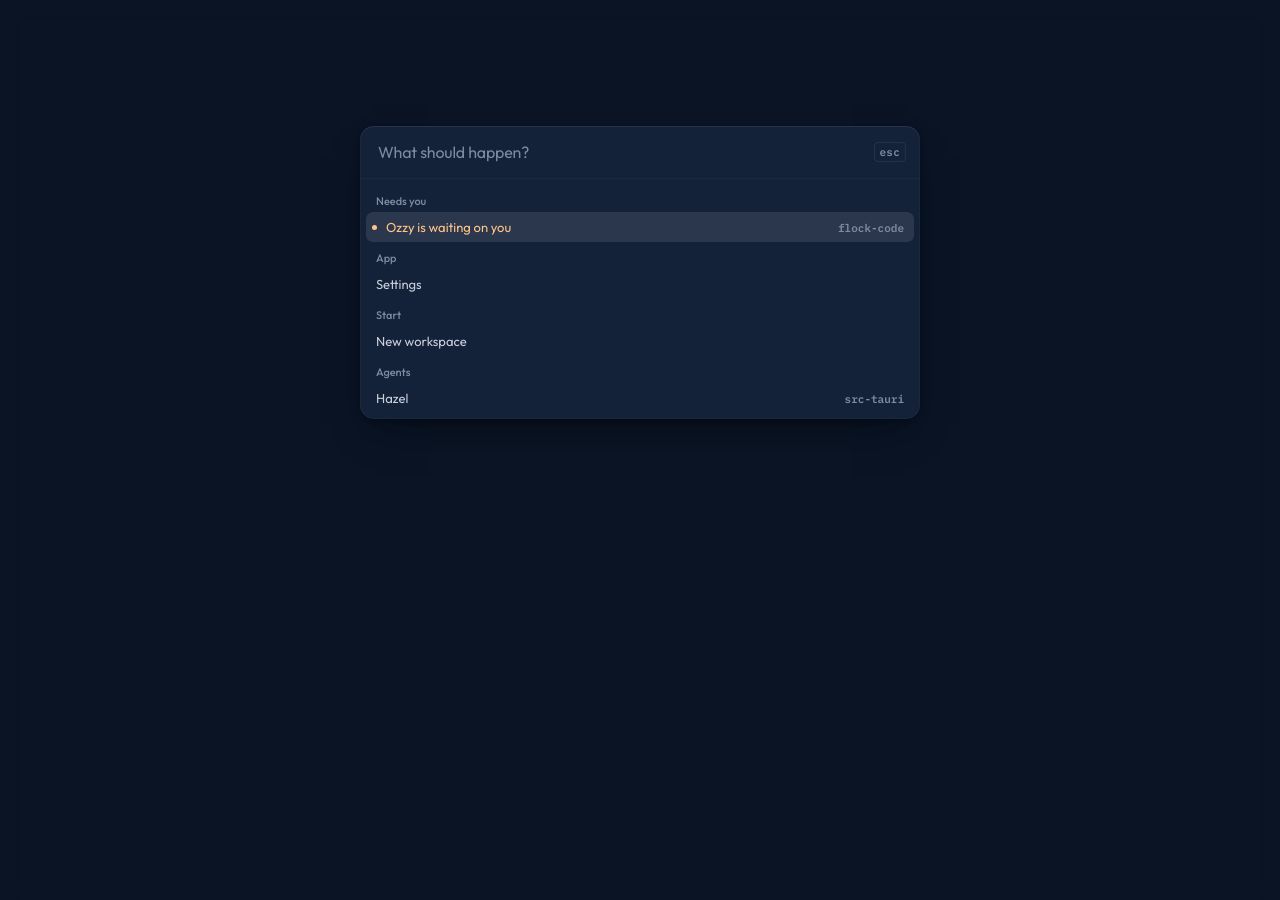
CommandBar prompt mode › states that the prompt is injected rather than submitted
Type "fix the resize test" into the field with placeholder "What should happen?" at {"x": 620, "y": 152}, box [376,130,864,174]
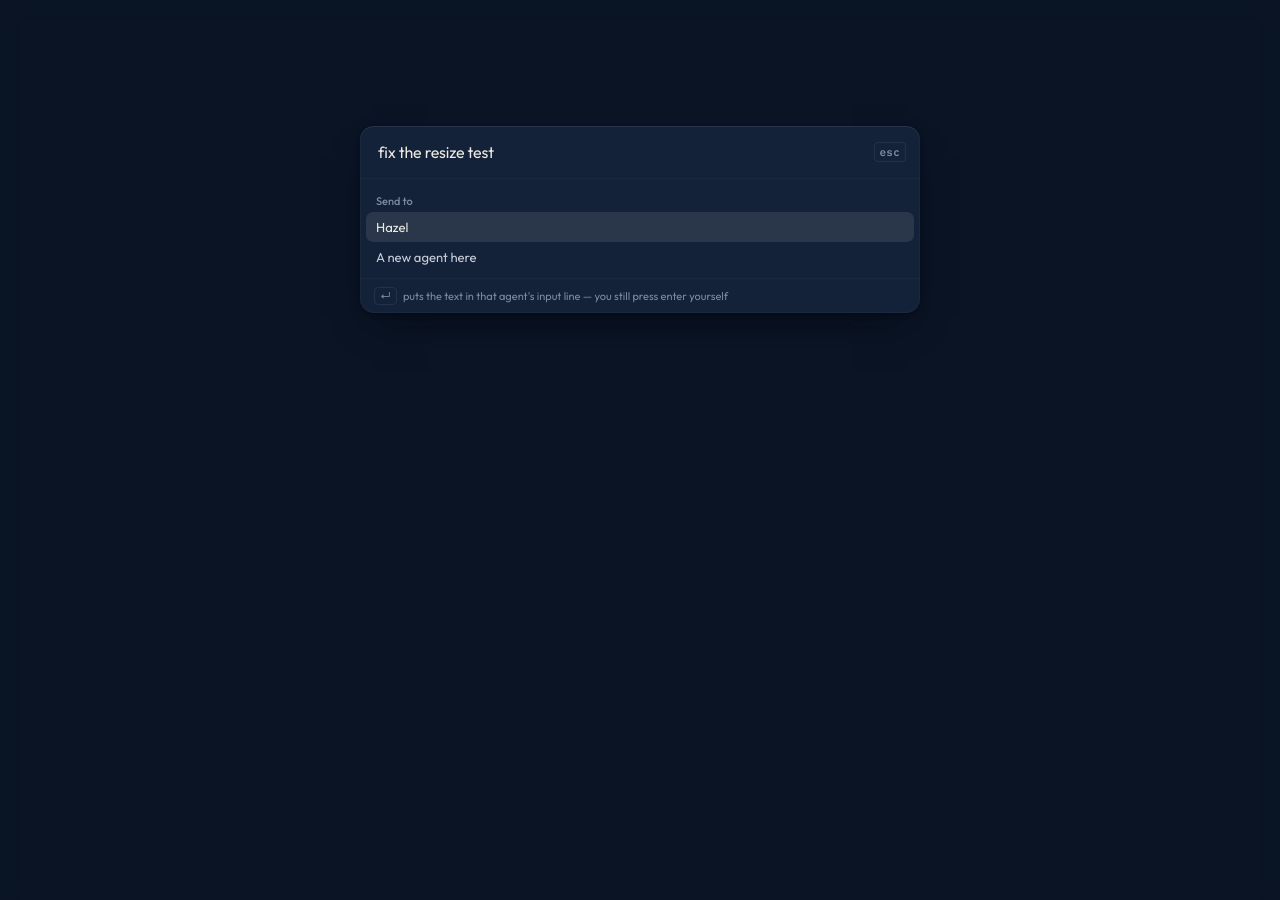
Expected: the text "you still press enter yourself" is shown, [403,289,728,303]
